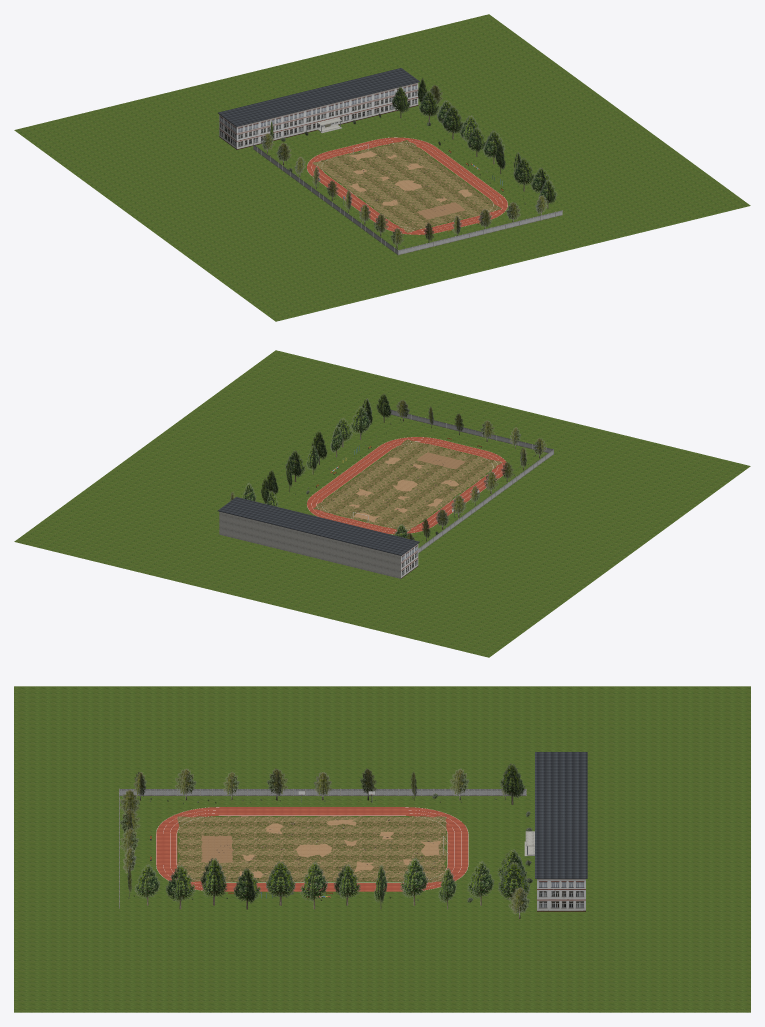
File: school.gltf
3 views of the same model, one above another, from view 1: azimuth 30°, elevation 25°; view 2: azimuth 150°, elevation 25°; view 3: azimuth 270°, elevation 25° (orthographic). The views are drawn at different scales.
Parts seen in each view (by area): view 1: ground, court, school-front, school-roof, court-track, fence1, fence0; view 2: ground, court, school-body, school-roof, court-track, fence1, fence0; view 3: ground, court, school-roof, court-track, fence0, school-right, clay-dom, tree5-1, tree1-1, tree0-1, tree10-1, tree8-1.
Boxes of the visible parts, x1,y1,x2,y2 form: ground: [14, 14, 750, 321]; court: [312, 140, 501, 232]; school-front: [237, 82, 418, 149]; school-roof: [218, 68, 419, 126]; court-track: [307, 137, 507, 234]; fence1: [398, 210, 562, 254]; fence0: [253, 145, 397, 254]; ground: [14, 350, 750, 657]; court: [313, 439, 502, 531]; school-body: [219, 511, 400, 578]; school-roof: [218, 497, 419, 555]; court-track: [307, 437, 506, 534]; fence1: [390, 410, 553, 452]; fence0: [418, 450, 553, 553]; ground: [14, 686, 750, 1012]; court: [177, 816, 446, 882]; school-roof: [535, 752, 587, 878]; court-track: [156, 807, 468, 891]; fence0: [119, 789, 525, 795]; school-right: [537, 879, 585, 911]; clay-dom: [201, 835, 232, 862]; tree5-1: [300, 861, 327, 909]; tree1-1: [165, 865, 195, 909]; tree0-1: [134, 864, 159, 905]; tree10-1: [467, 861, 493, 905]; tree8-1: [400, 858, 427, 905].
Bounding box in the file's own units: 220 × 15.41 × 210.
24 materials, 17 textured.
